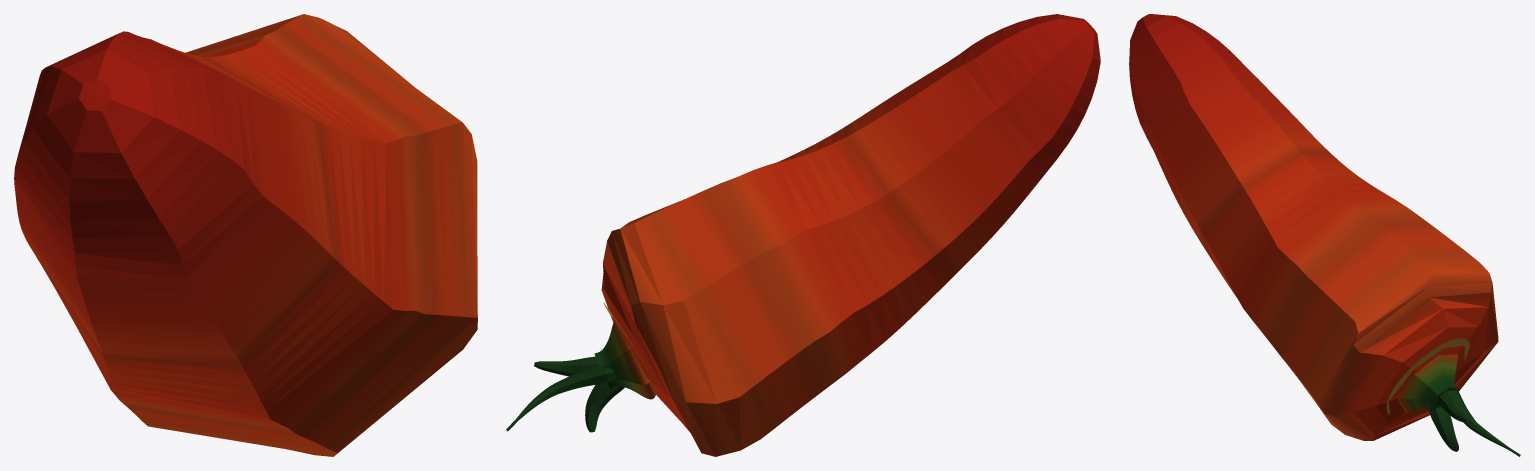
The model's file is Snowman-Carrot.fbx.
The picture shows the model from 3 angles, left to right: view 1: azimuth 30°, elevation 25°; view 2: azimuth 150°, elevation 25°; view 3: azimuth 270°, elevation 25°; orthographic projection. The views are drawn at different scales.
Visible parts, largest first — view 1: Carrot; view 2: Carrot; view 3: Carrot.
Boxes of the visible parts, box(x1,y1,x2,y2) form: Carrot: box(14, 14, 477, 456); Carrot: box(506, 14, 1100, 456); Carrot: box(1129, 14, 1520, 456).
Size of the model in its own units: 1.45 by 1.37 by 1.49.
